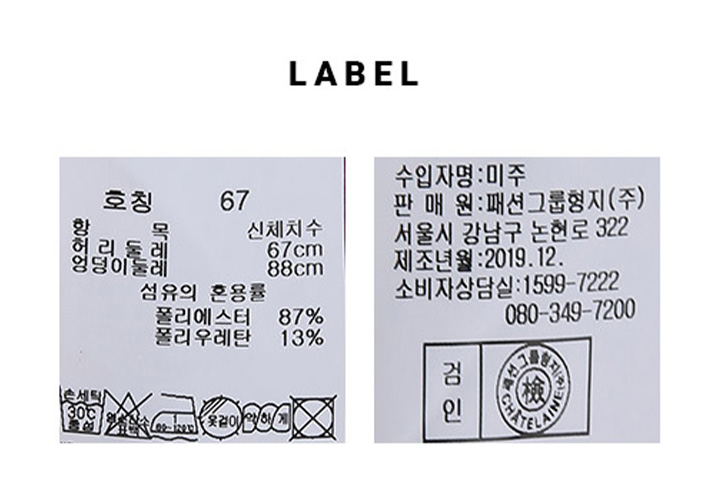KR_gentle_wring: (243, 402, 291, 436)
KR_hand_wash_30_neutral: (60, 382, 104, 440)
KR_hang_dry_in_shade: (198, 395, 242, 440)
KR_iron_low_temp_with_cloth: (151, 392, 199, 441)
KR_no_bleach: (105, 389, 150, 441)
KR_no_tumble_dry: (290, 394, 340, 441)
